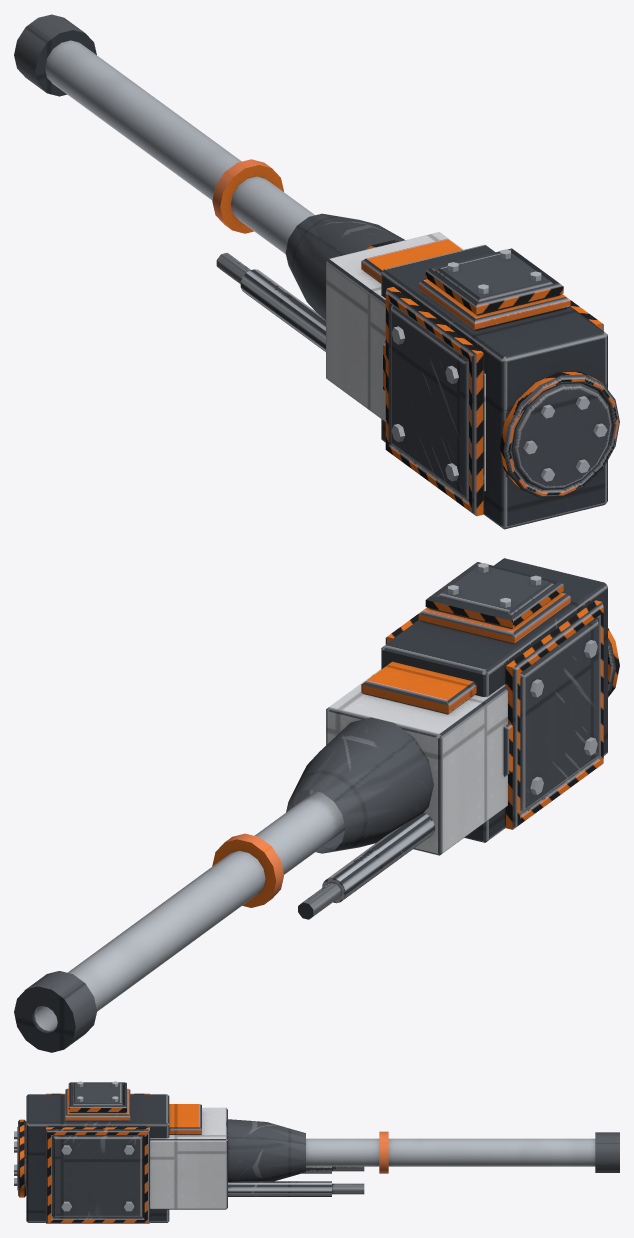
File: canon_balistico_t2.fbx
3 views of the same model, one above another, from view 1: azimuth 30°, elevation 25°; view 2: azimuth 150°, elevation 25°; view 3: azimuth 270°, elevation 25° (orthographic). The views are drawn at different scales.
Parts seen in each view (by area): view 1: canon_balistico_t2; view 2: canon_balistico_t2; view 3: canon_balistico_t2.
Boxes of the visible parts, <box> form: canon_balistico_t2: <box>14,14,619,529</box>; canon_balistico_t2: <box>14,558,619,1052</box>; canon_balistico_t2: <box>14,1081,619,1223</box>.
Bounding box in the file's own units: 1.48 × 2.01 × 9.32.
